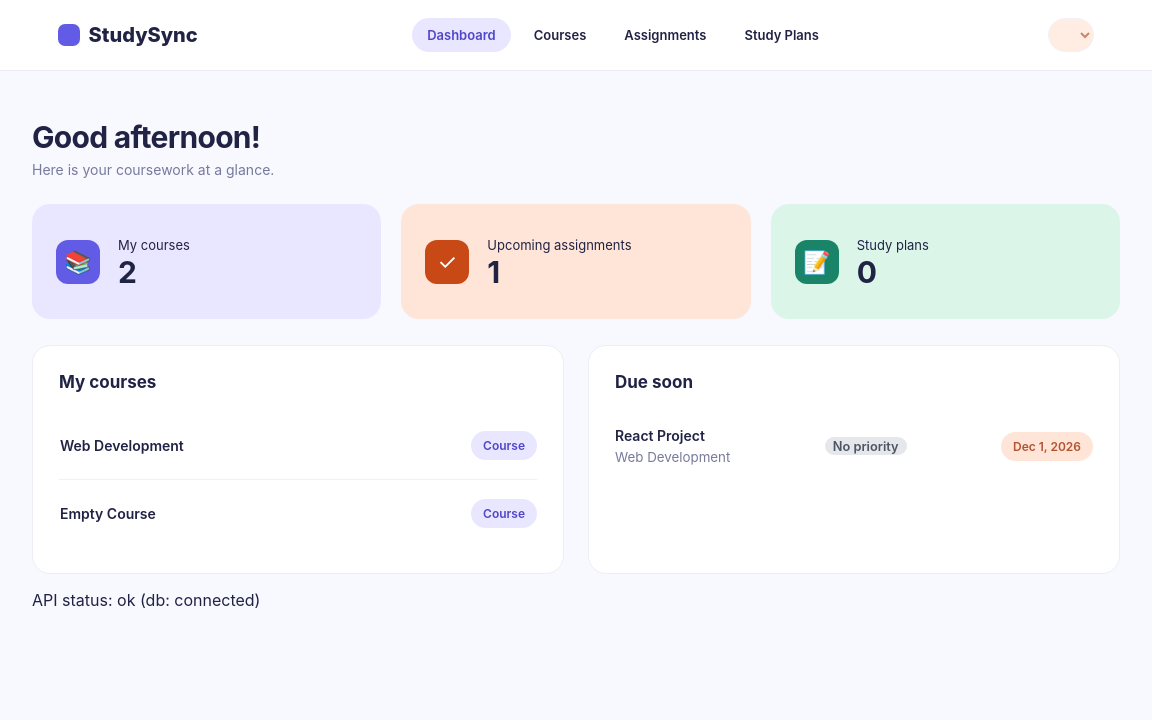
Test: shows an empty state when the selected course has no assignments
The width and height of the screenshot is (1152, 720).
Click the button "Assignments": (665, 35) [609, 18, 721, 52]
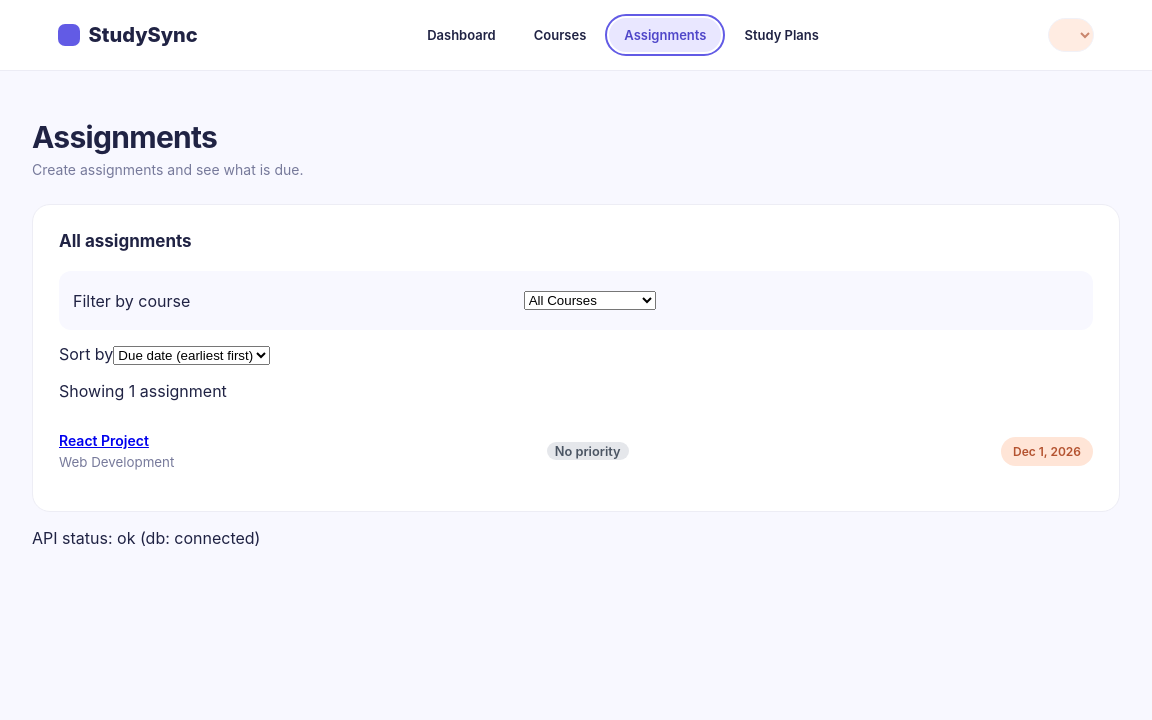
Check: the text "Showing 1 assignment" is shown, box [59, 381, 227, 401]
Select "Empty Course" in the dropdown labelled "Filter by course": (590, 300) [524, 291, 656, 310]
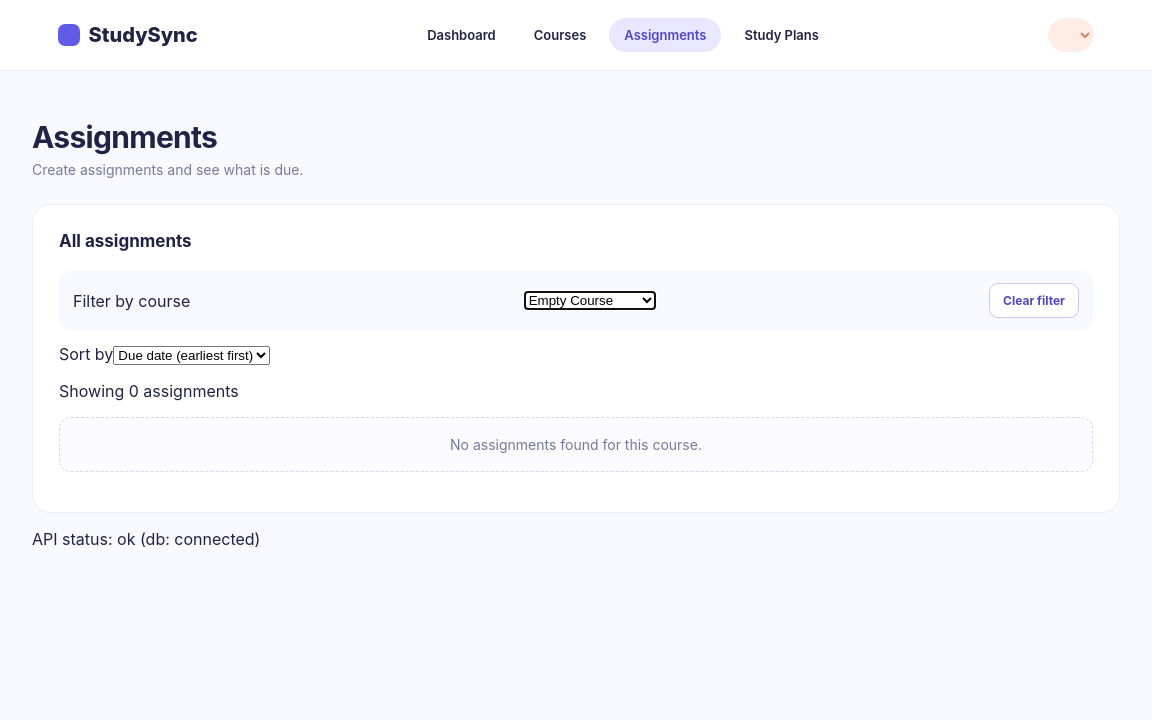
Check: the text "Showing 0 assignments" is shown, box [59, 381, 239, 401]
Check: the text "No assignments found for this course." is shown, box [59, 417, 1093, 472]
Check: the link "React Project" is gone
